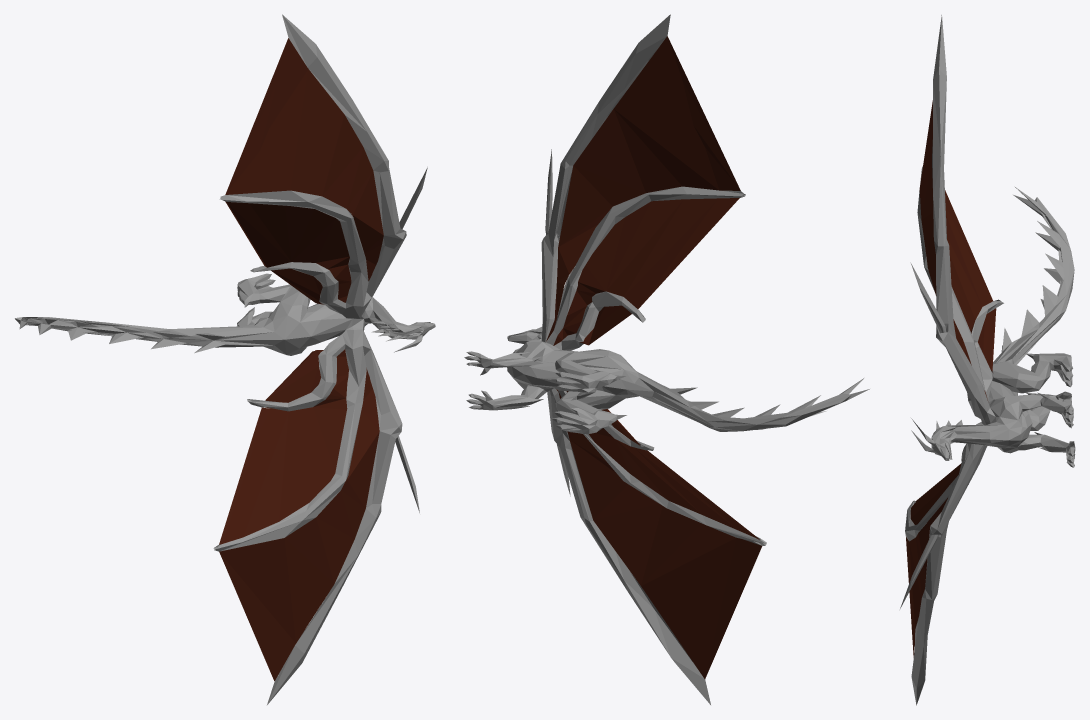
Rendered from Dragon_2.5_For_Animations_000251.obj.
3 renders of one model, left to right at view 1: azimuth 30°, elevation 25°; view 2: azimuth 150°, elevation 25°; view 3: azimuth 270°, elevation 25°, orthographic. The views are drawn at different scales.
Parts seen in each view (by area): view 1: Cube_Cube.004; view 2: Cube_Cube.004; view 3: Cube_Cube.004.
Boxes of the visible parts, x1,y1,x2,y2 form: Cube_Cube.004: (15,14,435,704); Cube_Cube.004: (464,14,869,704); Cube_Cube.004: (900,15,1075,705).
Size of the model in its own units: 90.76 by 152 by 34.51.
